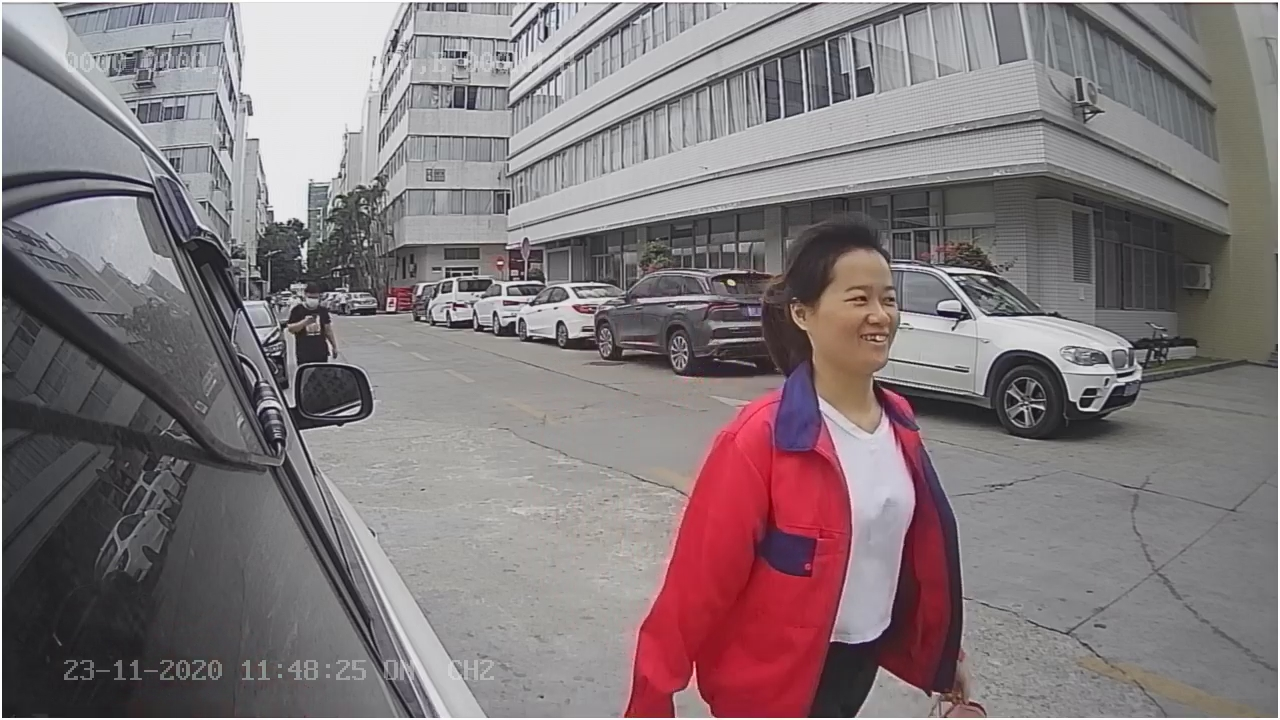person: (673, 219, 975, 645)
